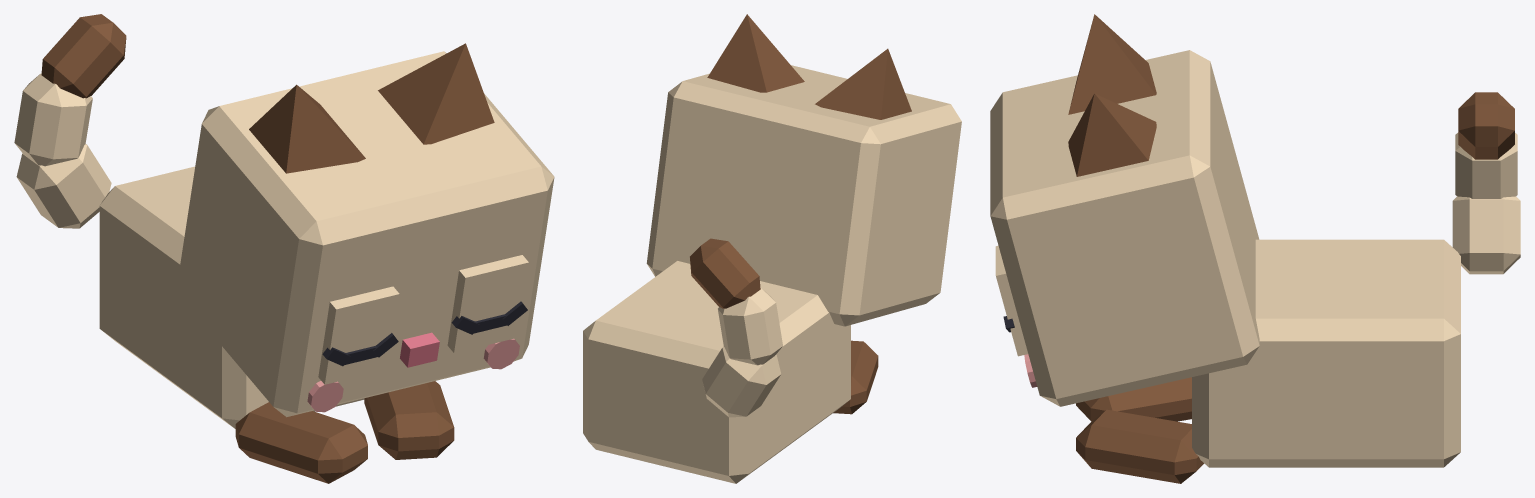
File: CleanACat_Cat_Toffee_Loaf_Lite.fbx
3 renders of one model, left to right at view 1: azimuth 30°, elevation 25°; view 2: azimuth 150°, elevation 25°; view 3: azimuth 270°, elevation 25°, orthographic. The views are drawn at different scales.
Parts seen in each view (by area): view 1: CleanACat_Cat_Toffee_Loaf_Lite_Head, CleanACat_Cat_Toffee_Loaf_Lite_Body, CleanACat_Cat_Toffee_Loaf_Lite_Tail, CleanACat_Cat_Toffee_Loaf_Lite_Paws, CleanACat_Cat_Toffee_Loaf_Lite_EarL, CleanACat_Cat_Toffee_Loaf_Lite_Eye2, CleanACat_Cat_Toffee_Loaf_Lite_Eye1, CleanACat_Cat_Toffee_Loaf_Lite_EarR; view 2: CleanACat_Cat_Toffee_Loaf_Lite_Head, CleanACat_Cat_Toffee_Loaf_Lite_Body, CleanACat_Cat_Toffee_Loaf_Lite_Tail, CleanACat_Cat_Toffee_Loaf_Lite_EarL, CleanACat_Cat_Toffee_Loaf_Lite_EarR, CleanACat_Cat_Toffee_Loaf_Lite_Paws; view 3: CleanACat_Cat_Toffee_Loaf_Lite_Head, CleanACat_Cat_Toffee_Loaf_Lite_Body, CleanACat_Cat_Toffee_Loaf_Lite_Tail, CleanACat_Cat_Toffee_Loaf_Lite_Paws, CleanACat_Cat_Toffee_Loaf_Lite_EarL, CleanACat_Cat_Toffee_Loaf_Lite_EarR, CleanACat_Cat_Toffee_Loaf_Lite_Eye1.
Part boxes in pixels (x1,y1,x2,y2): CleanACat_Cat_Toffee_Loaf_Lite_Head: [176, 51, 554, 417]; CleanACat_Cat_Toffee_Loaf_Lite_Body: [99, 166, 364, 428]; CleanACat_Cat_Toffee_Loaf_Lite_Tail: [14, 14, 126, 228]; CleanACat_Cat_Toffee_Loaf_Lite_Paws: [235, 381, 454, 483]; CleanACat_Cat_Toffee_Loaf_Lite_EarL: [378, 43, 494, 144]; CleanACat_Cat_Toffee_Loaf_Lite_Eye2: [318, 286, 399, 384]; CleanACat_Cat_Toffee_Loaf_Lite_Eye1: [447, 255, 528, 353]; CleanACat_Cat_Toffee_Loaf_Lite_EarR: [249, 84, 365, 173]; CleanACat_Cat_Toffee_Loaf_Lite_Head: [646, 65, 961, 326]; CleanACat_Cat_Toffee_Loaf_Lite_Body: [583, 261, 850, 483]; CleanACat_Cat_Toffee_Loaf_Lite_Tail: [690, 238, 782, 417]; CleanACat_Cat_Toffee_Loaf_Lite_EarL: [707, 14, 804, 92]; CleanACat_Cat_Toffee_Loaf_Lite_EarR: [815, 48, 911, 119]; CleanACat_Cat_Toffee_Loaf_Lite_Paws: [833, 340, 878, 414]; CleanACat_Cat_Toffee_Loaf_Lite_Head: [990, 50, 1259, 406]; CleanACat_Cat_Toffee_Loaf_Lite_Body: [1192, 239, 1460, 467]; CleanACat_Cat_Toffee_Loaf_Lite_Tail: [1452, 92, 1520, 274]; CleanACat_Cat_Toffee_Loaf_Lite_Paws: [1076, 377, 1203, 483]; CleanACat_Cat_Toffee_Loaf_Lite_EarL: [1068, 93, 1156, 176]; CleanACat_Cat_Toffee_Loaf_Lite_EarR: [1068, 14, 1156, 114]; CleanACat_Cat_Toffee_Loaf_Lite_Eye1: [995, 245, 1028, 356].
Size of the model in its own units: 1.11 by 1.52 by 1.87.
Materials: 1 (1 with a texture image).
